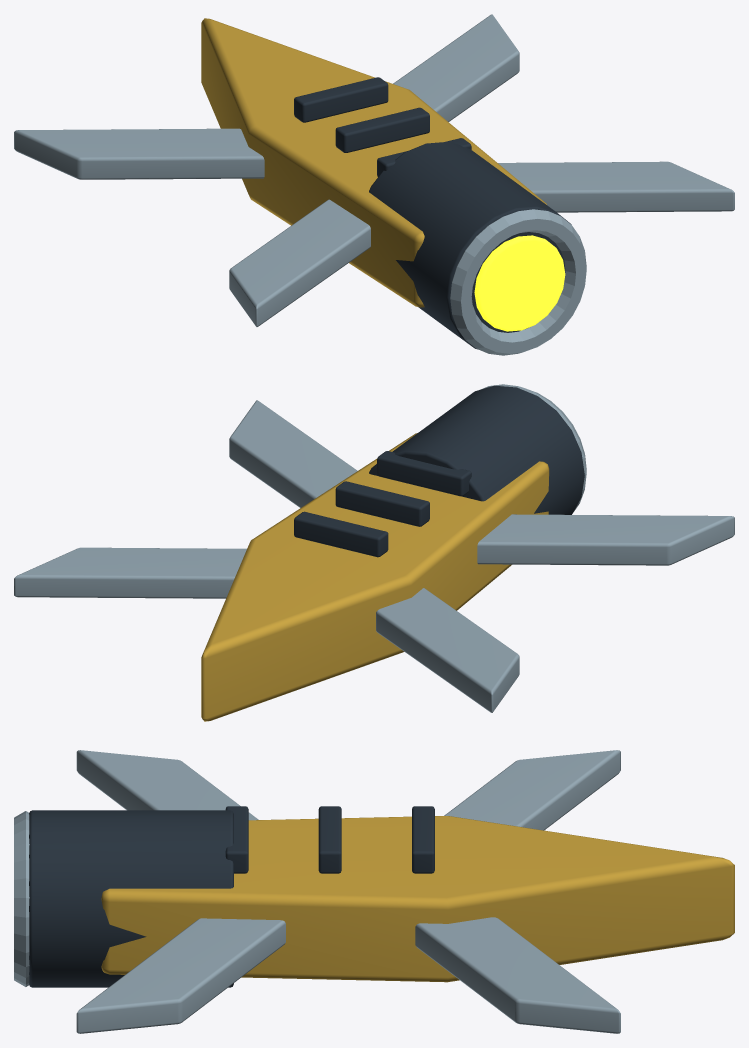
File: hiveDrone_vespa.glb
3 renders of one model, top to bottom at view 1: azimuth 30°, elevation 25°; view 2: azimuth 150°, elevation 25°; view 3: azimuth 270°, elevation 25°, orthographic. The views are drawn at different scales.
Visible parts, largest first — view 1: hiveDrone | Titanium, hiveDrone | VESPA | armor, hiveDrone | Graphite chassis, hiveDrone | VESPA | energy; view 2: hiveDrone | VESPA | armor, hiveDrone | Titanium, hiveDrone | Graphite chassis; view 3: hiveDrone | VESPA | armor, hiveDrone | Titanium, hiveDrone | Graphite chassis.
Boxes of the visible parts, left/top/right/bottom form: hiveDrone | Titanium: left=14, top=14, right=734, bottom=355; hiveDrone | VESPA | armor: left=201, top=18, right=546, bottom=307; hiveDrone | Graphite chassis: left=294, top=77, right=571, bottom=349; hiveDrone | VESPA | energy: left=474, top=235, right=565, bottom=331; hiveDrone | VESPA | armor: left=201, top=433, right=549, bottom=721; hiveDrone | Titanium: left=14, top=384, right=734, bottom=712; hiveDrone | Graphite chassis: left=294, top=385, right=584, bottom=557; hiveDrone | VESPA | armor: left=101, top=816, right=734, bottom=982; hiveDrone | Titanium: left=14, top=750, right=620, bottom=1033; hiveDrone | Graphite chassis: left=29, top=806, right=434, bottom=987.
Size of the model in its own units: 0.9973 by 0.288 by 1.16.
